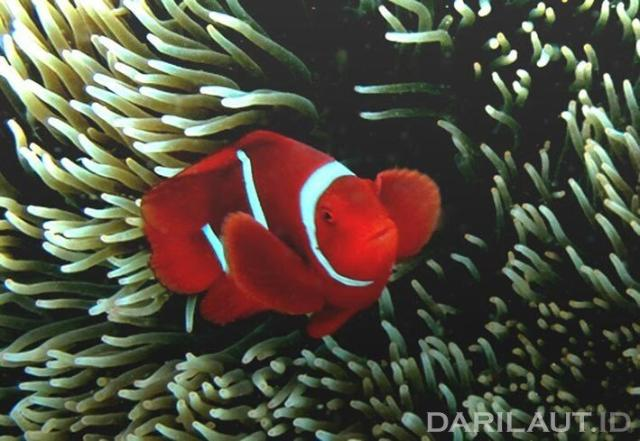Mulut: (348, 212, 422, 262)
Sirip Anal: (188, 270, 266, 342)
Sirip Dada: (208, 205, 329, 325), (366, 160, 452, 282)
Sirip Ekor: (120, 217, 228, 305)
Sirip Perut: (294, 298, 384, 358)
Sirip Punggung: (139, 110, 289, 238)
